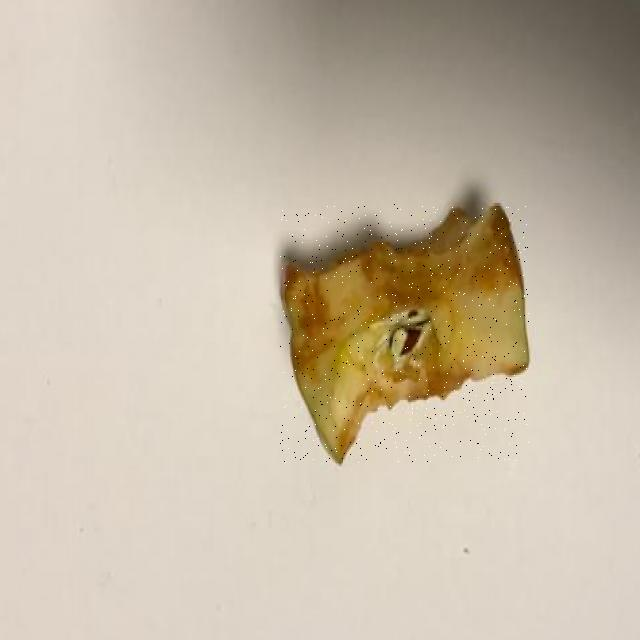biowaste: (280, 204, 529, 462)
